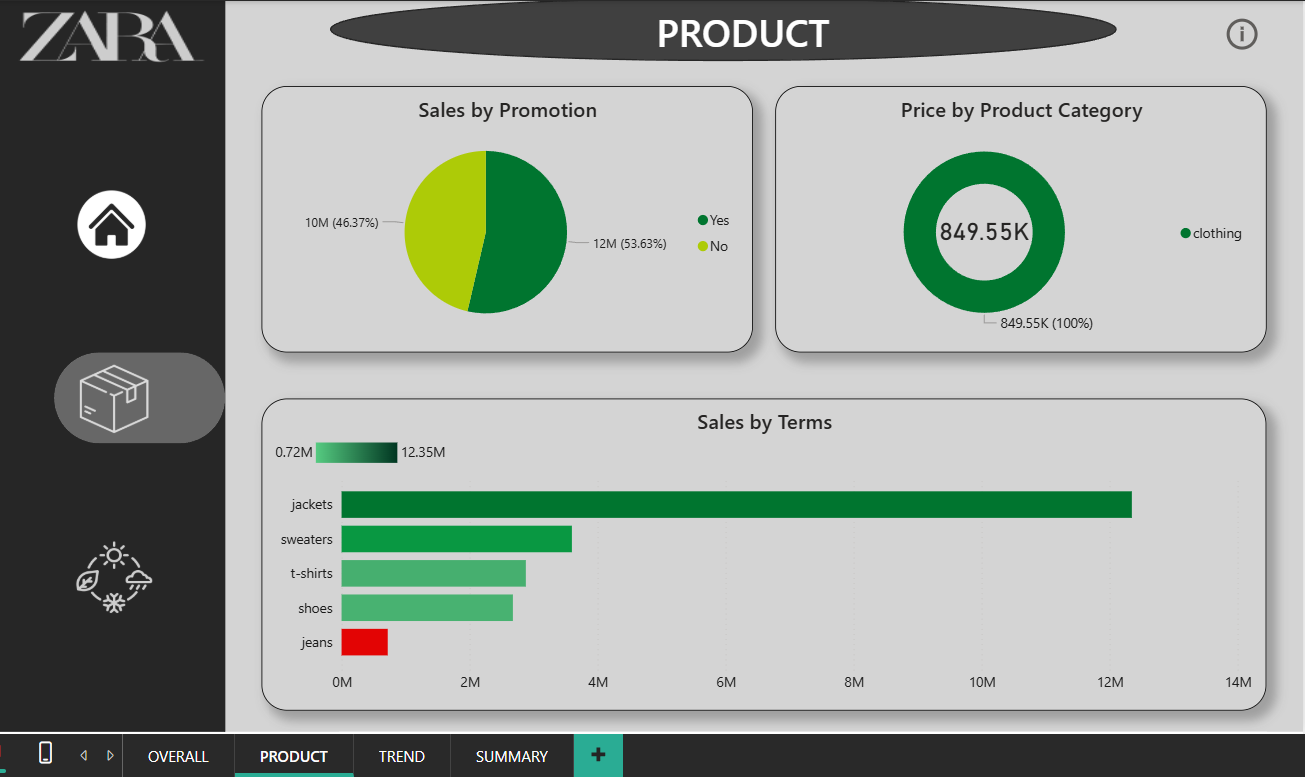

This screenshot's page, from the dashboard's own definition file:
{"tool":"powerbi","page":{"name":"PRODUCT","canvas":[1280,720],"ordinal":1},"visuals":[{"type":"textbox","box":[640.5,0,198.8,66.3],"z":0},{"type":"shape","box":[54,344.8,168.1,89.6],"z":1000},{"type":"pieChart","title":"Sales by Promotion","fields":{"Y":["Sum(Zara_sales_EDA.sales_volume)"],"Category":["Zara_sales_EDA.promotion"]},"box":[257.7,83.4,482.2,261.4],"z":2000},{"type":"clusteredBarChart","title":"Sales by Terms","fields":{"Category":["Zara_sales_EDA.terms"],"Y":["Sum(Zara_sales_EDA.sales_volume)"]},"box":[257.7,390.2,986.5,306.8],"z":3000},{"type":"donutChart","title":"Price by Product Category","fields":{"Category":["Zara_sales_EDA.product_category"],"Y":["Sum(Zara_sales_EDA.price)"]},"box":[762,83.4,482.2,261.4],"z":4000},{"type":"card","fields":{"Values":["Sum(Zara_sales_EDA.price)"]},"box":[909.2,195.1,116.6,61.4],"z":5000},{"type":"actionButton","box":[50.3,169.3,171.8,89.6],"z":5001},{"type":"actionButton","box":[50.3,517.8,171.8,89.6],"z":5002},{"type":"actionButton","box":[1200,12.3,63.8,40.5],"z":5003}]}

Visuals, with their boxes on the page's 1280x720 design canvas (x1, y1, x2, y2). These are canvas units, not pixel positions in the 1305x777 screenshot, which may show the page scaled, cropped or inside an application window:
textbox: 640 0 839 66
shape: 54 345 222 434
"Sales by Promotion" pieChart: 258 83 740 345
"Sales by Terms" clusteredBarChart: 258 390 1244 697
"Price by Product Category" donutChart: 762 83 1244 345
card - Sum(Zara_sales_EDA.price): 909 195 1026 256
actionButton: 50 169 222 259
actionButton: 50 518 222 607
actionButton: 1200 12 1264 53
